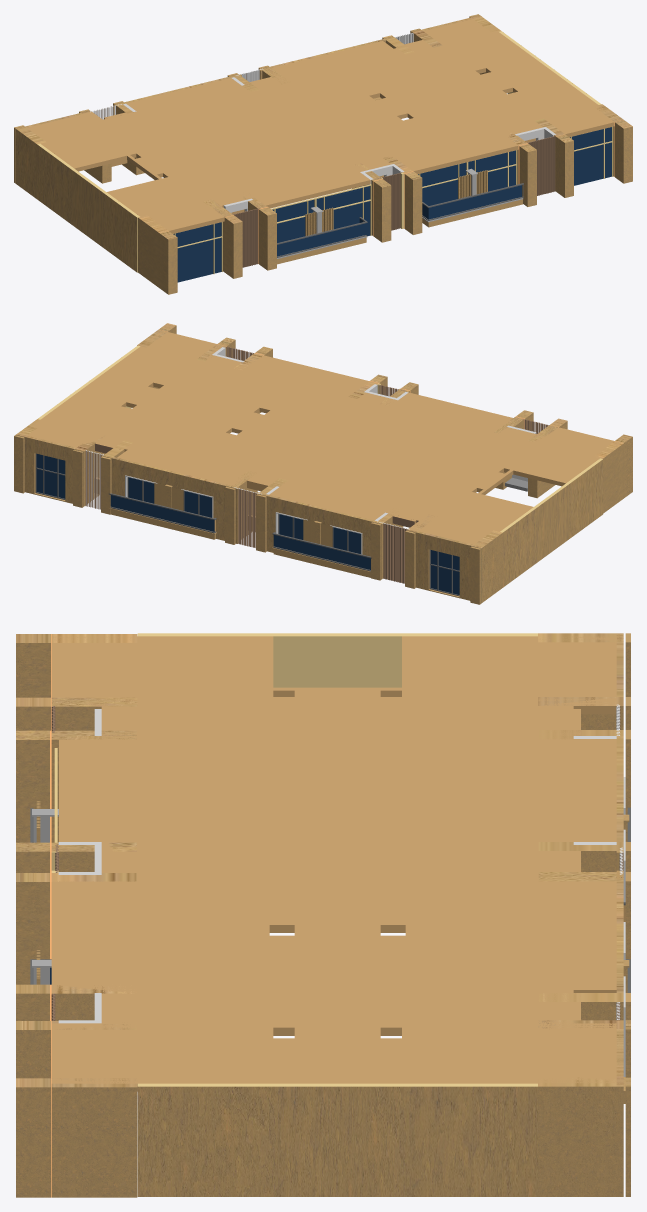
The model's file is penthousefloor.compressed.glb.
3 views of the same model, one above another, from view 1: azimuth 30°, elevation 25°; view 2: azimuth 150°, elevation 25°; view 3: azimuth 270°, elevation 25° (orthographic). The views are drawn at different scales.
Parts seen in each view (by area): view 1: PENTHOUSE FLOOR; view 2: PENTHOUSE FLOOR; view 3: PENTHOUSE FLOOR.
Part boxes in pixels (left/top/right/bottom): PENTHOUSE FLOOR: left=14, top=14, right=632, bottom=294; PENTHOUSE FLOOR: left=14, top=323, right=632, bottom=604; PENTHOUSE FLOOR: left=16, top=633, right=630, bottom=1197.
Size of the model in its own units: 11.1 by 1.26 by 6.36.
Materials: 10 (1 with a texture image).
